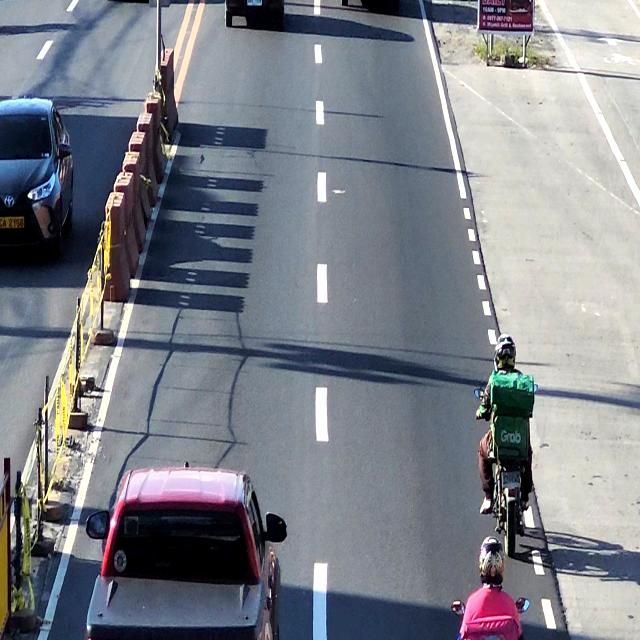Car: (83, 471, 280, 640)
Motorcycle: (472, 334, 537, 558), (451, 542, 536, 640)
